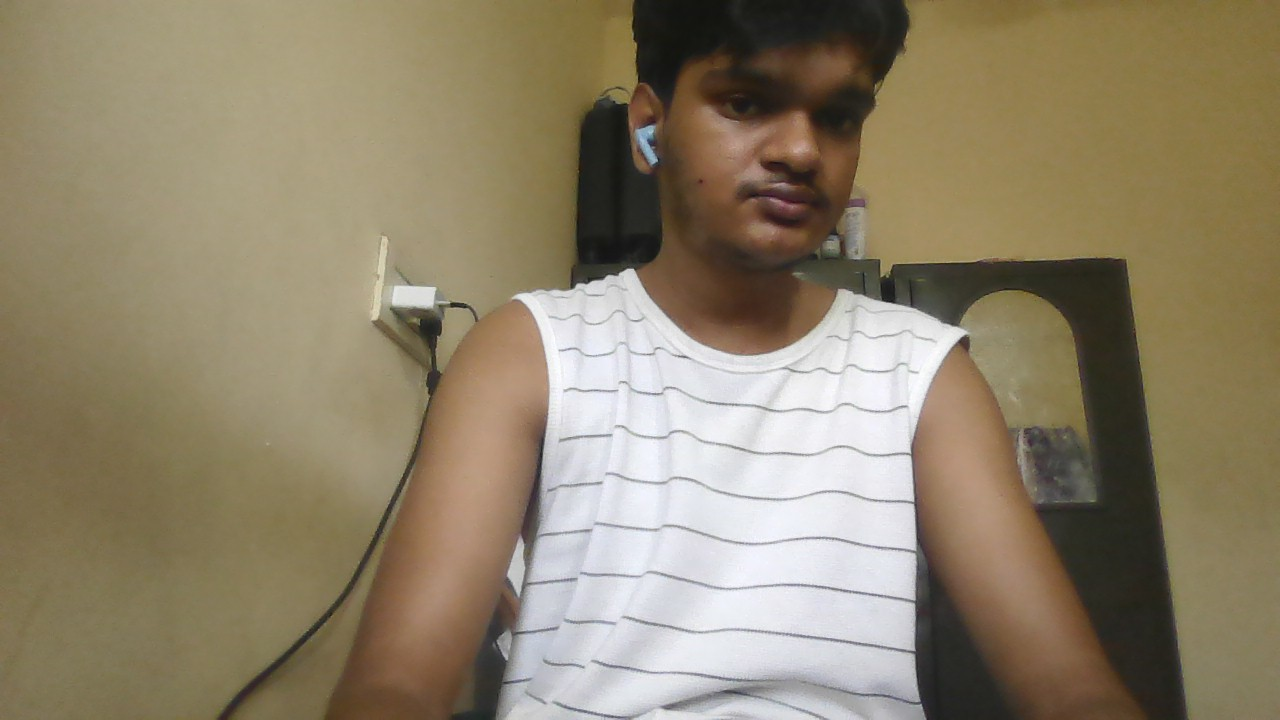earphone: (633, 119, 662, 167)
